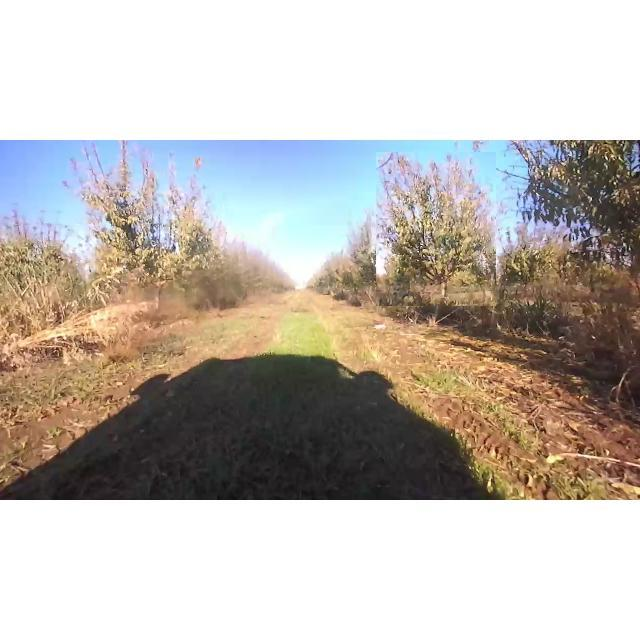tree: (56, 142, 220, 320), (376, 152, 496, 306), (352, 210, 398, 308)
